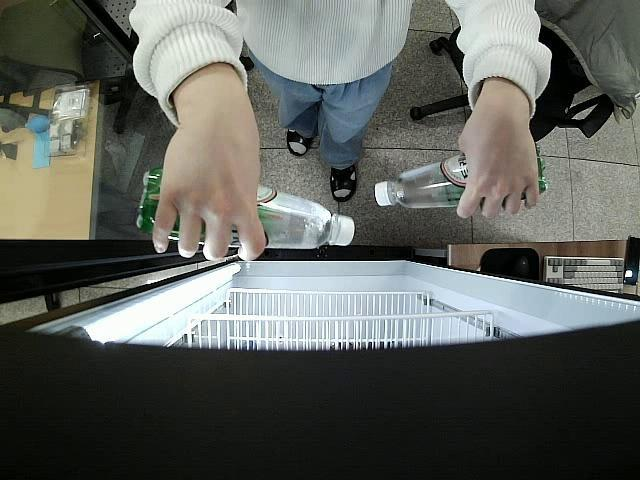18_trevi: (136, 167, 356, 251), (372, 150, 548, 208)
